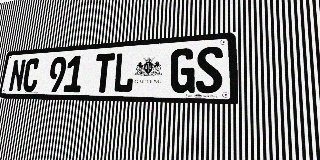1: (63, 55, 84, 92)
9: (47, 56, 67, 92)
C: (22, 58, 40, 92)
G: (170, 48, 196, 93)
L: (112, 52, 136, 93)
N: (8, 59, 26, 92)
S: (196, 46, 223, 93)
T: (93, 53, 115, 93)
